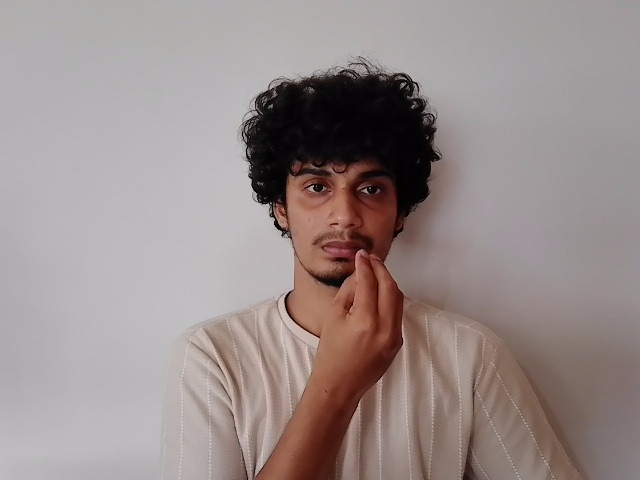eat: (273, 151, 409, 399)
